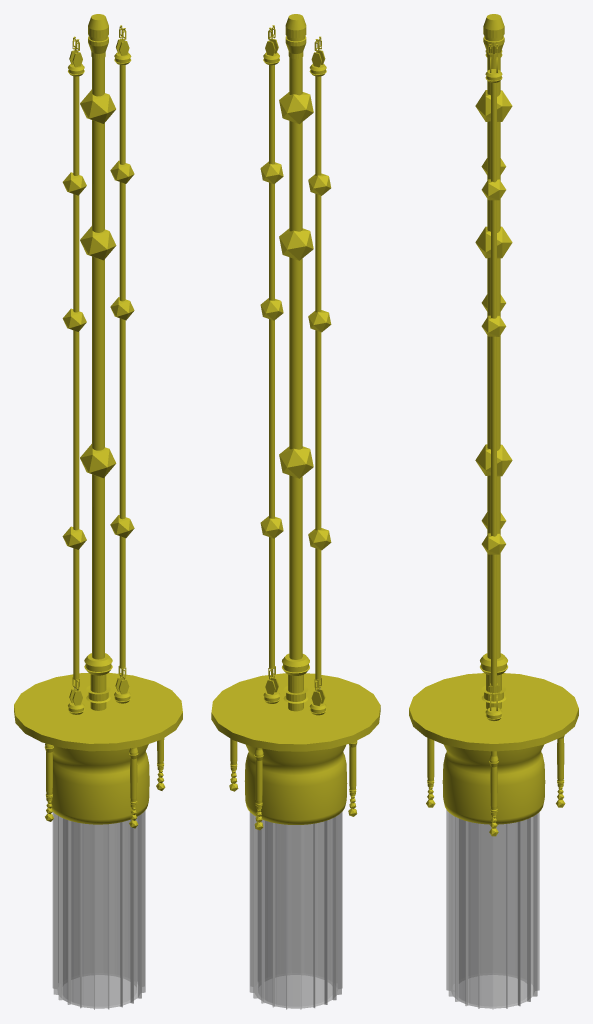
Rendered from chandielr piece.fbx.
The picture shows the model from 3 angles, left to right: view 1: azimuth 30°, elevation 25°; view 2: azimuth 150°, elevation 25°; view 3: azimuth 270°, elevation 25°; orthographic projection.
Parts seen in each view (by area): view 1: polySurface2011, polySurface2078; view 2: polySurface2011, polySurface2078; view 3: polySurface2011, polySurface2078.
Boxes of the visible parts, bbox=[...] form: polySurface2011: bbox=[14, 14, 182, 828]; polySurface2078: bbox=[52, 810, 145, 1009]; polySurface2011: bbox=[211, 14, 380, 830]; polySurface2078: bbox=[249, 812, 342, 1009]; polySurface2011: bbox=[409, 14, 578, 836]; polySurface2078: bbox=[446, 810, 539, 1009].
Size of the model in its own units: 56.47 by 357 by 56.47.
